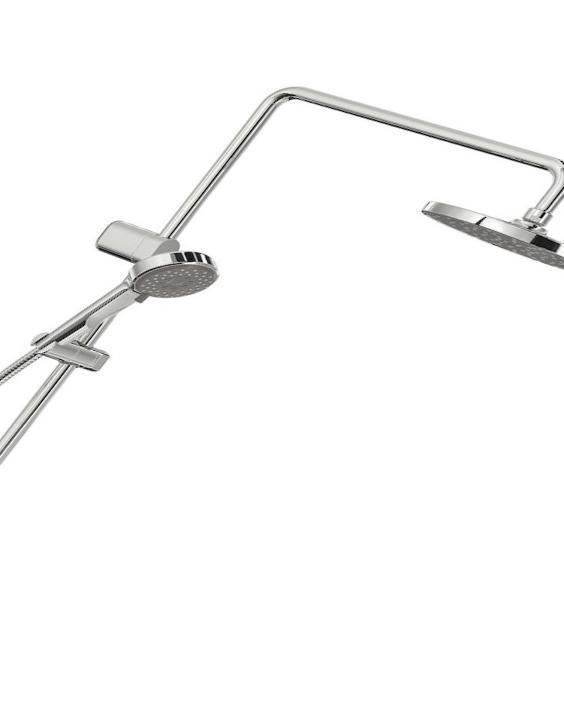Ducha: (0, 56, 563, 516)
